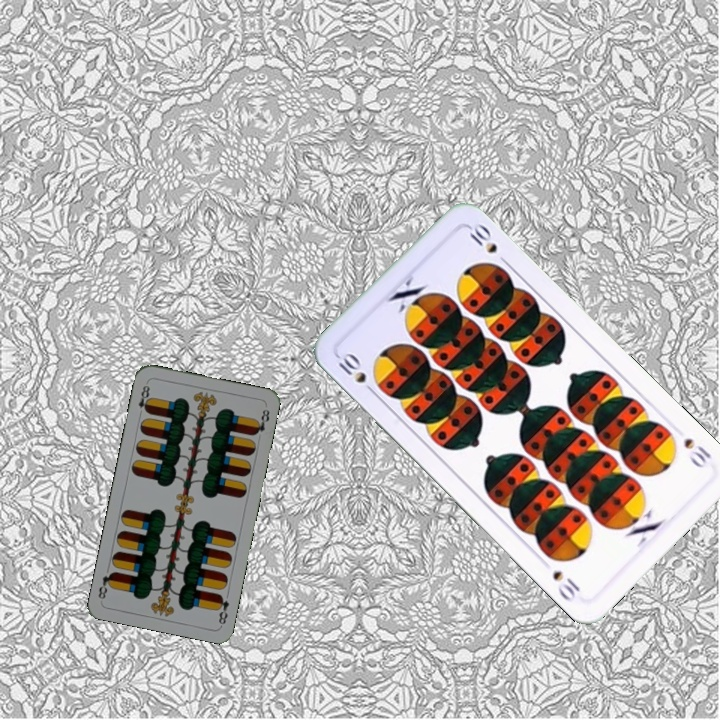E8: (134, 378, 153, 419), (213, 591, 232, 627)
S10: (331, 348, 379, 398), (680, 434, 714, 471)
